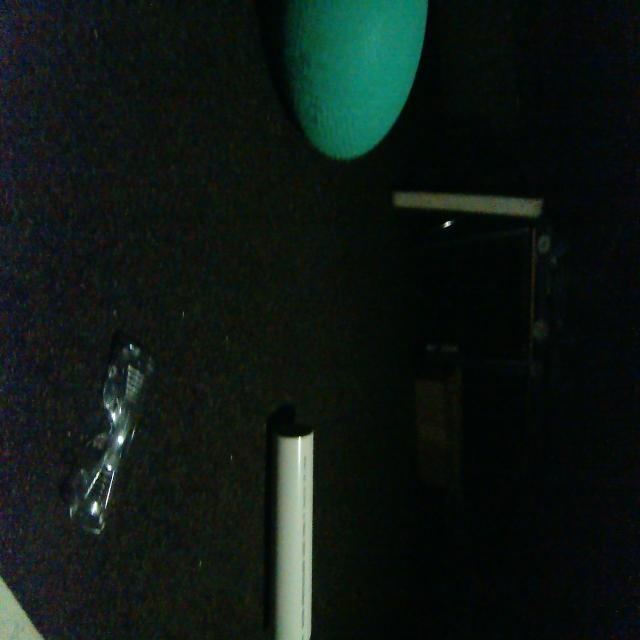algae: (282, 0, 432, 166)
coral: (272, 420, 317, 640)
